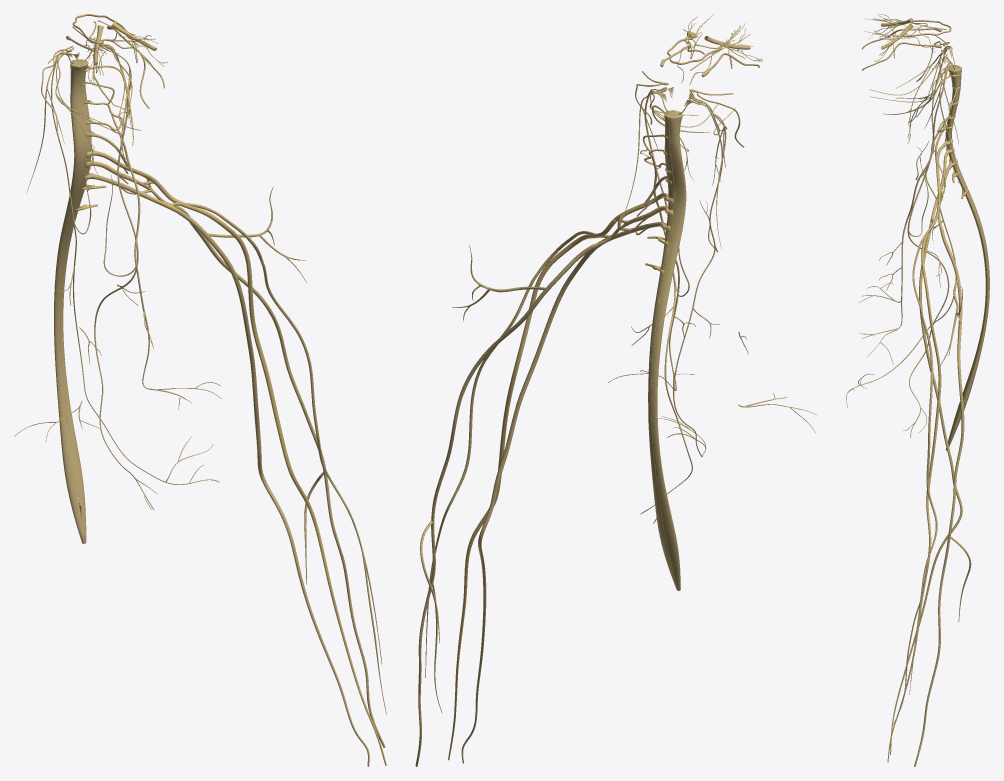
The model's file is nerves.glb.
3 renders of one model, left to right at view 1: azimuth 30°, elevation 25°; view 2: azimuth 150°, elevation 25°; view 3: azimuth 270°, elevation 25°, orthographic. The views are drawn at different scales.
Parts seen in each view (by area): view 1: nerve-FJ4426, nerve-FJ4224, nerve-FJ4258, nerve-FJ4240, nerve-FJ4225, nerve-FJ4024, nerve-FJ3926, nerve-FJ4157; view 2: nerve-FJ4426, nerve-FJ4258, nerve-FJ4240, nerve-FJ4224, nerve-FJ4225, nerve-FJ4024, nerve-FJ3926; view 3: nerve-FJ4426, nerve-FJ4240, nerve-FJ4224, nerve-FJ4225, nerve-FJ4258, nerve-FJ3926, nerve-FJ4024, nerve-FJ4157.
Boxes of the visible parts, <box> form: nerve-FJ4426: <box>54,59,91,543</box>; nerve-FJ4224: <box>182,205,386,765</box>; nerve-FJ4258: <box>178,210,369,766</box>; nerve-FJ4240: <box>175,205,385,747</box>; nerve-FJ4225: <box>184,203,386,714</box>; nerve-FJ4024: <box>51,51,218,484</box>; nerve-FJ3926: <box>94,43,157,509</box>; nerve-FJ4157: <box>111,114,149,385</box>; nerve-FJ4426: <box>648,110,686,590</box>; nerve-FJ4258: <box>461,240,603,763</box>; nerve-FJ4240: <box>415,245,593,766</box>; nerve-FJ4224: <box>448,234,596,760</box>; nerve-FJ4225: <box>425,231,595,712</box>; nerve-FJ4024: <box>658,95,722,456</box>; nerve-FJ3926: <box>631,89,692,523</box>; nerve-FJ4426: <box>945,65,989,450</box>; nerve-FJ4240: <box>914,229,964,766</box>; nerve-FJ4224: <box>887,226,941,762</box>; nerve-FJ4225: <box>892,225,937,725</box>; nerve-FJ4258: <box>890,231,962,754</box>; nerve-FJ3926: <box>902,58,951,437</box>; nerve-FJ4024: <box>846,46,956,407</box>; nerve-FJ4157: <box>901,125,942,325</box>.
Size of the model in its own units: 5.6 by 11.09 by 2.27.
